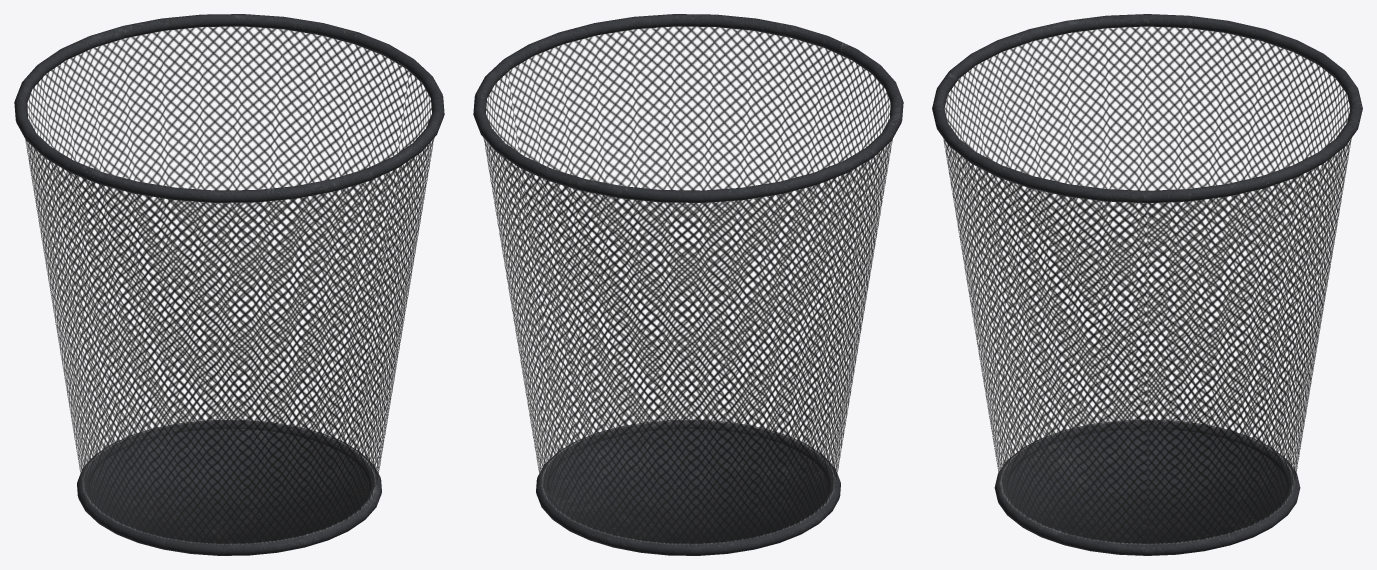
Rendered from trash_can.glb.
3 renders of one model, left to right at view 1: azimuth 30°, elevation 25°; view 2: azimuth 150°, elevation 25°; view 3: azimuth 270°, elevation 25°, orthographic.
Visible parts, largest first — view 1: SM_TrashCan; view 2: SM_TrashCan; view 3: SM_TrashCan.
Part boxes in pixels (box(x1,y1,x2,y2)): SM_TrashCan: box(14, 14, 444, 555); SM_TrashCan: box(473, 14, 903, 555); SM_TrashCan: box(932, 14, 1362, 555).
Bounding box in the file's own units: 0.2678 × 0.2678 × 0.2678.
Materials: 1 (1 with a texture image).
